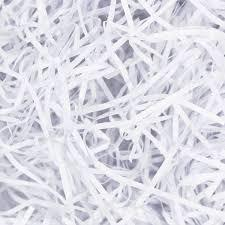Paper shavings: (3, 3, 225, 225)
